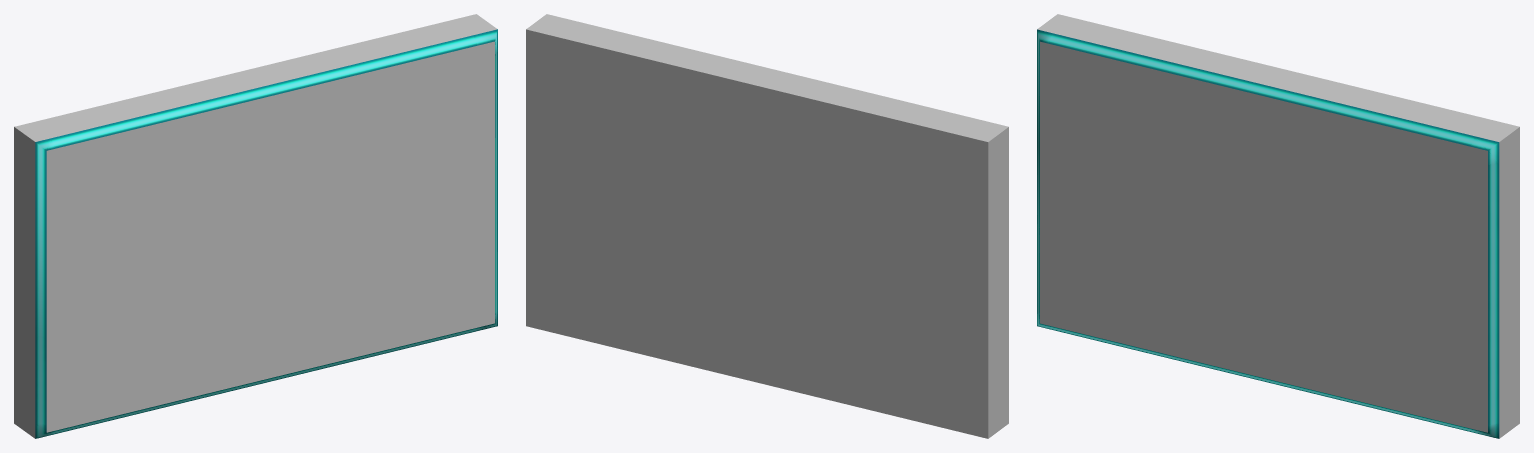
File: sign_11.fbx
3 views of the same model, side by side, from view 1: azimuth 30°, elevation 25°; view 2: azimuth 150°, elevation 25°; view 3: azimuth 330°, elevation 25° (orthographic).
Visible parts, largest first — view 1: sign_11; view 2: sign_11; view 3: sign_11.
Boxes of the visible parts, <box> form: sign_11: <box>14,14,497,438</box>; sign_11: <box>526,14,1008,438</box>; sign_11: <box>1037,14,1519,438</box>.
Size of the model in its own units: 3.55 by 2.17 by 0.3334.
